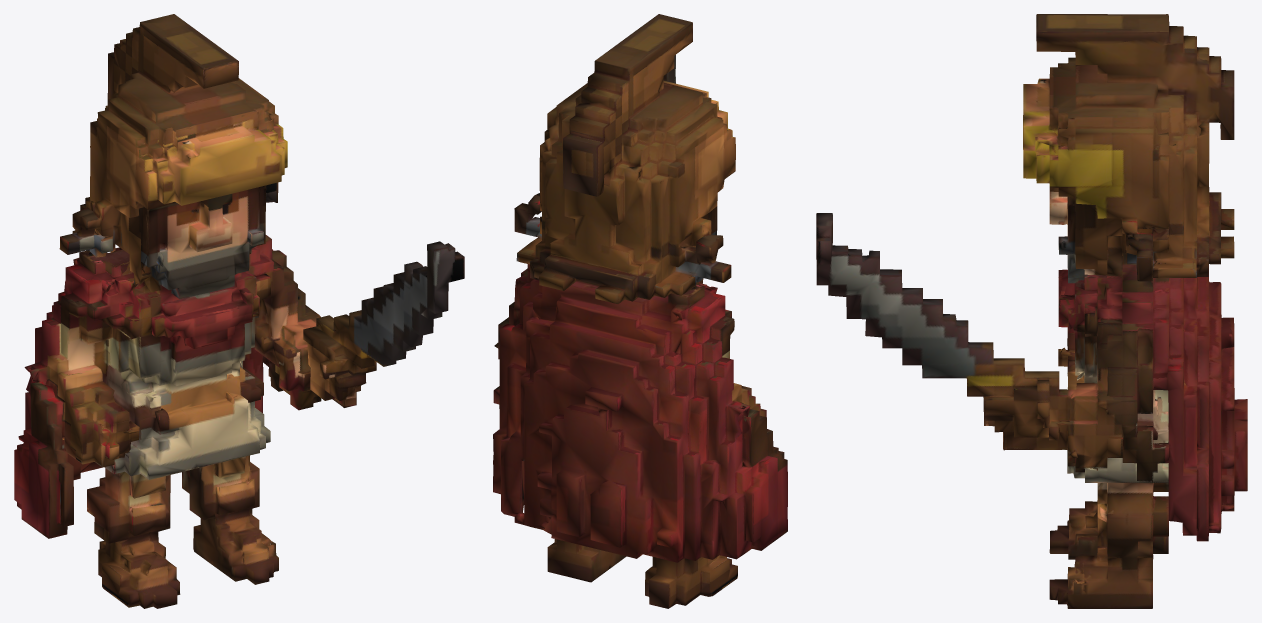
Rendered from Pixel_Gladiator_0607141251_texture.glb.
3 views of the same model, side by side, from view 1: azimuth 30°, elevation 25°; view 2: azimuth 150°, elevation 25°; view 3: azimuth 270°, elevation 25° (orthographic). The views are drawn at different scales.
Bounding box in the file's own units: 1.09 × 2 × 1.42.
Materials: 1 (1 with a texture image).
